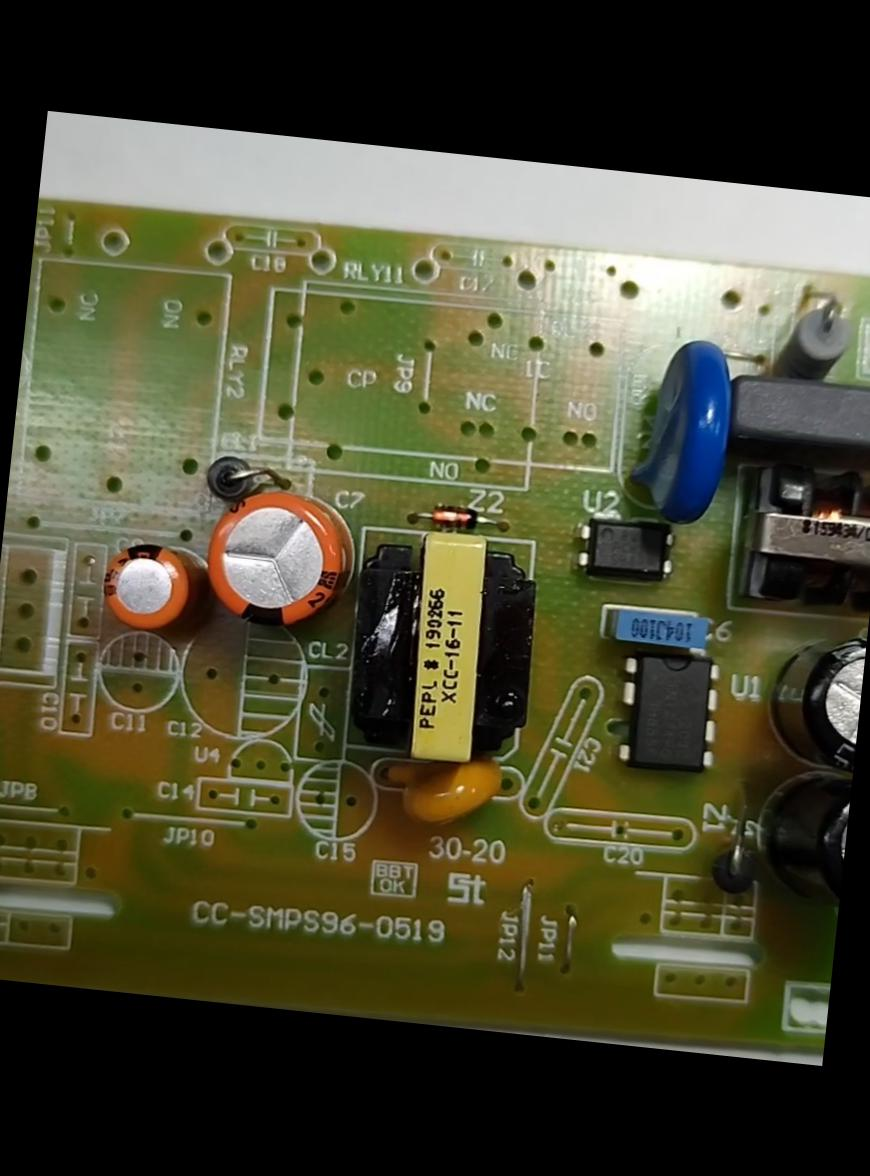Cap1: (190, 468, 360, 654)
Cap2: (80, 528, 214, 652)
Cap3: (759, 614, 868, 778)
Cap4: (739, 752, 853, 922)
MOSFET: (604, 638, 734, 786)
Mov: (620, 322, 748, 542)
Resistor: (770, 286, 862, 390)
Transformer: (338, 515, 556, 776), (730, 442, 869, 625)
